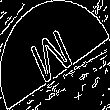M_SE: (29, 21, 81, 89)
